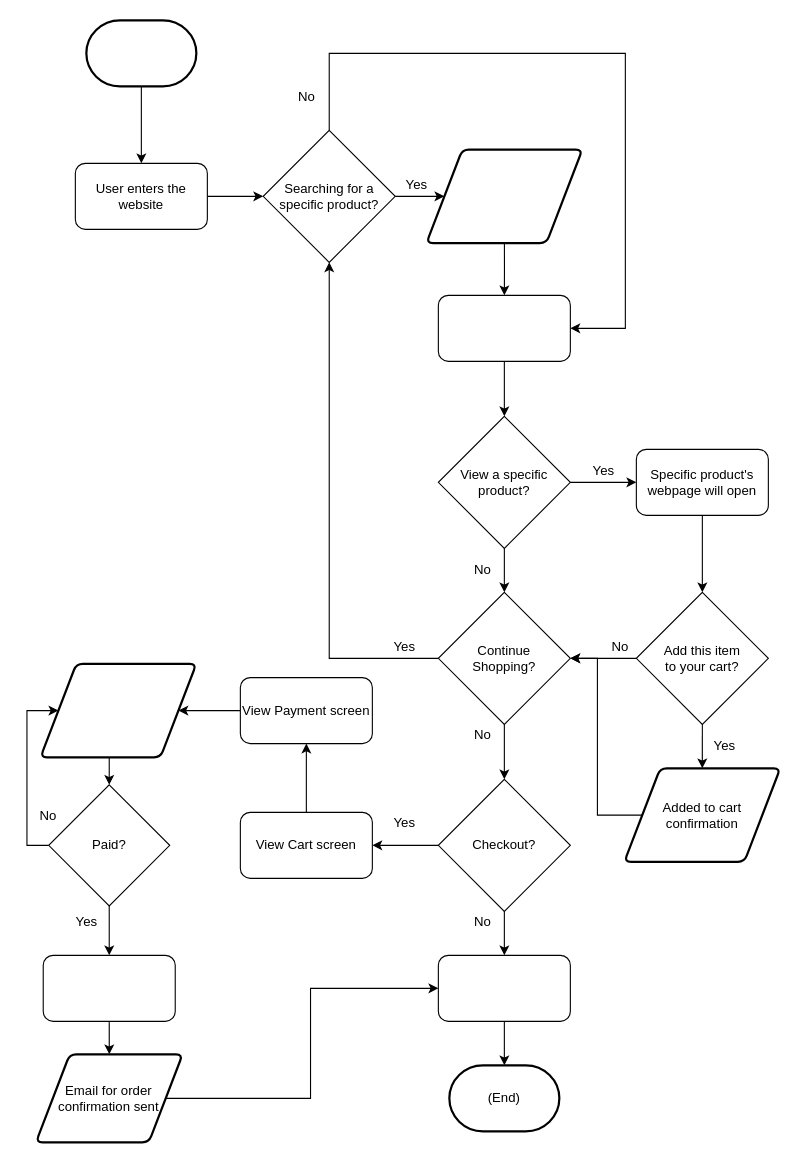
This 801x1162 diagram has some shape labels left out. Each missing label, with the centre of its shape:
"(Start)" belongs at (x=141, y=53).
"Leave the website" belongs at (x=503, y=987).
"Order Confirmation Screen" belongs at (x=108, y=987).
"Read input for product search" belongs at (x=504, y=196).
"User inputs payment information" belongs at (x=118, y=710).
"User looks over products" belongs at (x=503, y=327).
